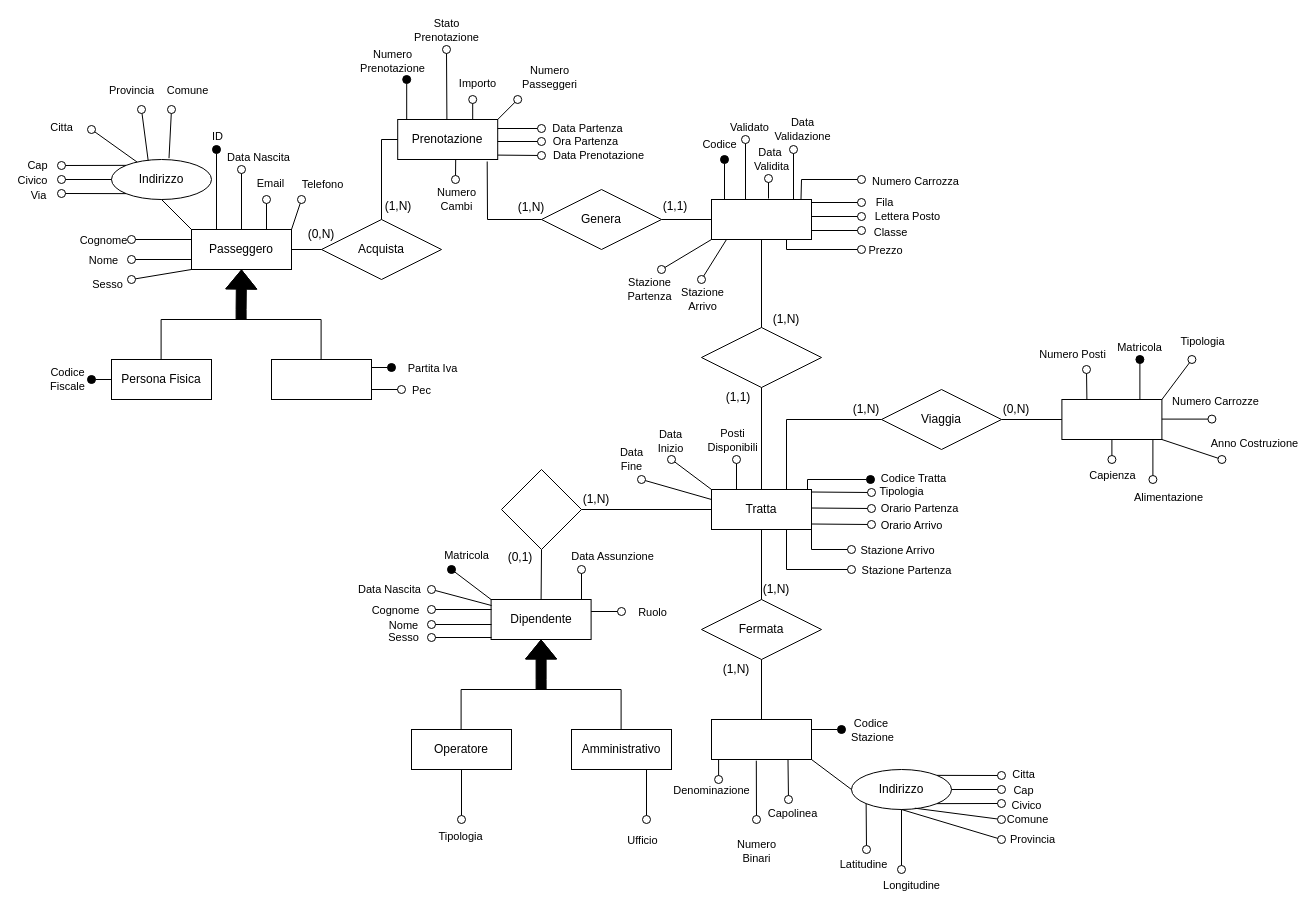
This 1315x909 diagram has some shape labels left out. Each missing label, with the box of its shape:
Biglietto: (710, 198, 812, 240)
Lavora: (500, 468, 582, 550)
Soggetto Giuridico: (270, 358, 372, 400)
Stazione: (710, 718, 812, 760)
Treno: (1061, 398, 1162, 440)
Valido: (700, 326, 822, 388)
